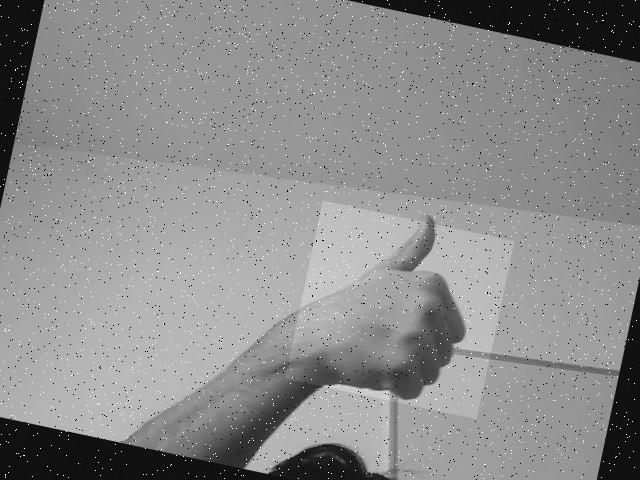good: (284, 200, 514, 420)
